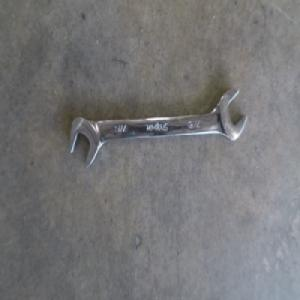Wrench: (74, 90, 238, 167)
